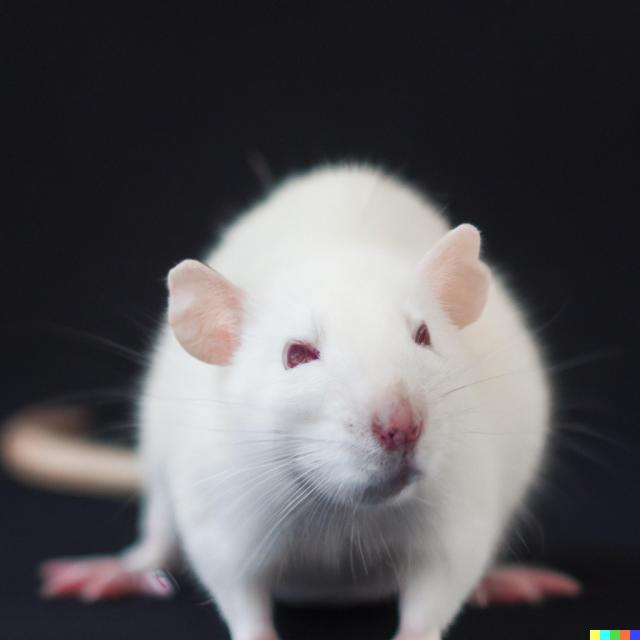rodent: (97, 139, 595, 632)
